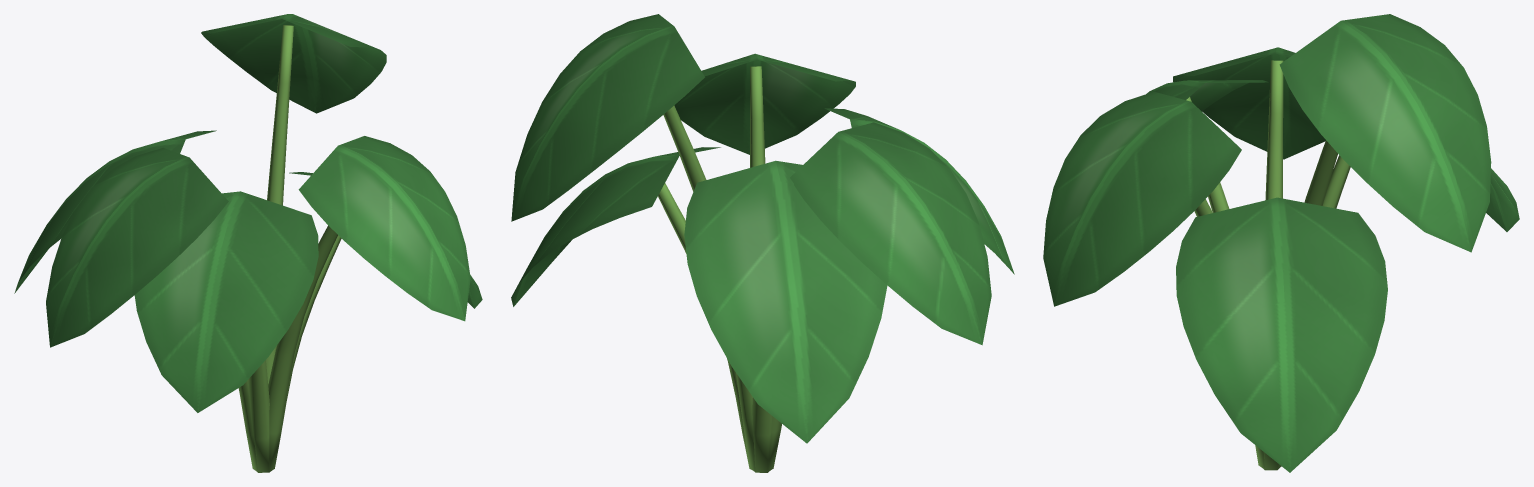
The model's file is taro_b.glb.
3 views of the same model, side by side, from view 1: azimuth 30°, elevation 25°; view 2: azimuth 150°, elevation 25°; view 3: azimuth 270°, elevation 25° (orthographic). The views are drawn at different scales.
Parts seen in each view (by area): view 1: Taro_leaf; view 2: Taro_leaf; view 3: Taro_leaf.
Boxes of the visible parts, box(x1,y1,x2,y2) form: Taro_leaf: box(14, 14, 482, 472); Taro_leaf: box(511, 14, 1014, 472); Taro_leaf: box(1043, 14, 1519, 472).
Bounding box in the file's own units: 1.1 × 1.02 × 0.934.
Materials: 1 (1 with a texture image).
